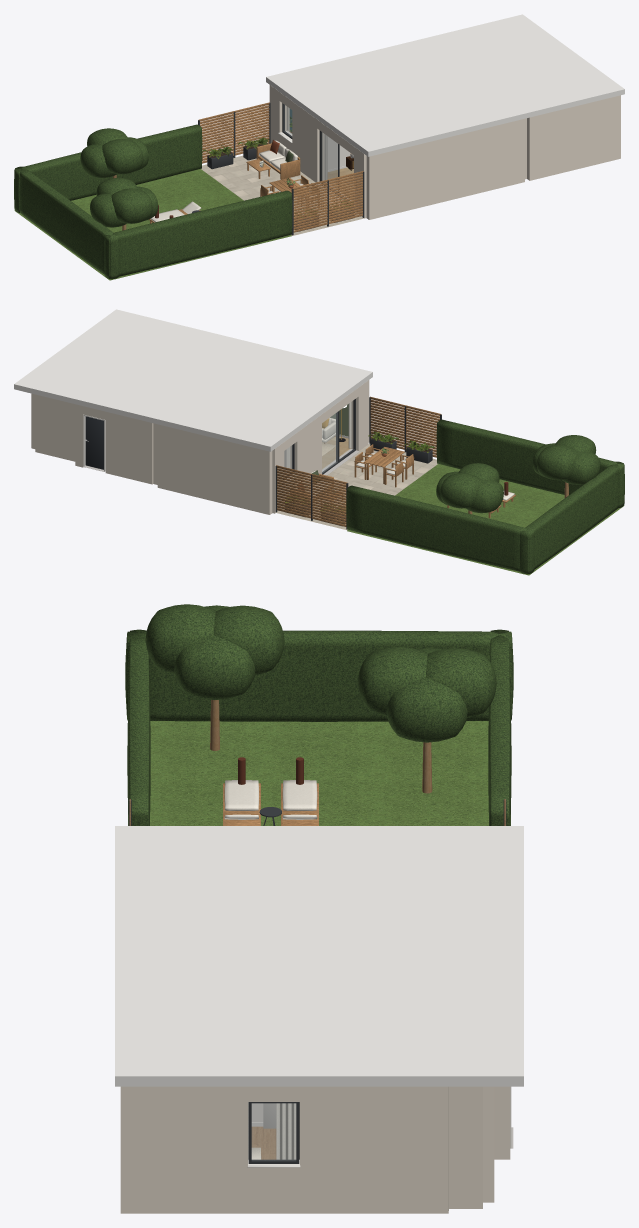
The model's file is lot.glb.
3 views of the same model, one above another, from view 1: azimuth 30°, elevation 25°; view 2: azimuth 150°, elevation 25°; view 3: azimuth 270°, elevation 25° (orthographic). The views are drawn at different scales.
Parts seen in each view (by area): view 1: m_Plafond, m_Haie, m_Enduit de facade, m_Teck, m_Pelouse, m_Sol de terrasse, m_Alu anthracite, m_Verre, m_Toile ivoire, m_Enduit blanc; view 2: m_Plafond, m_Haie, m_Enduit de facade, m_Teck, m_Pelouse, m_Sol de terrasse, m_Alu anthracite, m_Verre, m_Porte paliere, m_Sol sejour; view 3: m_Plafond, m_Enduit de facade, m_Haie, m_Pelouse, m_Verre, m_Toile ivoire, m_Rideau, m_Alu anthracite, m_Teck, m_Chene.
Part boxes in pixels (x1=…): m_Plafond: x1=266, y1=14, x2=624, y2=156; m_Haie: x1=14, y1=124, x2=292, y2=279; m_Enduit de facade: x1=269, y1=85, x2=620, y2=219; m_Teck: x1=149, y1=102, x2=363, y2=232; m_Pelouse: x1=14, y1=169, x2=291, y2=280; m_Sol de terrasse: x1=201, y1=155, x2=364, y2=235; m_Alu anthracite: x1=192, y1=103, x2=364, y2=235; m_Verre: x1=284, y1=105, x2=337, y2=180; m_Toile ivoire: x1=150, y1=140, x2=316, y2=222; m_Enduit blanc: x1=280, y1=131, x2=350, y2=169; m_Plafond: x1=14, y1=309, x2=372, y2=451; m_Haie: x1=346, y1=419, x2=624, y2=574; m_Enduit de facade: x1=31, y1=380, x2=369, y2=514; m_Teck: x1=276, y1=396, x2=515, y2=526; m_Pelouse: x1=347, y1=464, x2=624, y2=575; m_Sol de terrasse: x1=275, y1=443, x2=437, y2=530; m_Alu anthracite: x1=275, y1=397, x2=441, y2=529; m_Verre: x1=284, y1=412, x2=337, y2=472; m_Porte paliere: x1=85, y1=416, x2=103, y2=469; m_Sol sejour: x1=322, y1=436, x2=350, y2=469; m_Plafond: x1=115, y1=826, x2=523, y2=1086; m_Enduit de facade: x1=120, y1=1086, x2=510, y2=1213; m_Haie: x1=125, y1=604, x2=513, y2=825; m_Pelouse: x1=128, y1=721, x2=510, y2=825; m_Verre: x1=252, y1=1103, x2=295, y2=1159; m_Toile ivoire: x1=224, y1=780, x2=317, y2=819; m_Rideau: x1=248, y1=1102, x2=299, y2=1159; m_Alu anthracite: x1=128, y1=799, x2=506, y2=1163; m_Teck: x1=129, y1=783, x2=505, y2=825; m_Chene: x1=210, y1=700, x2=432, y2=793.
Bounding box in the file's own units: 21.22 × 2.81 × 7.33.
80 materials, 44 textured.
